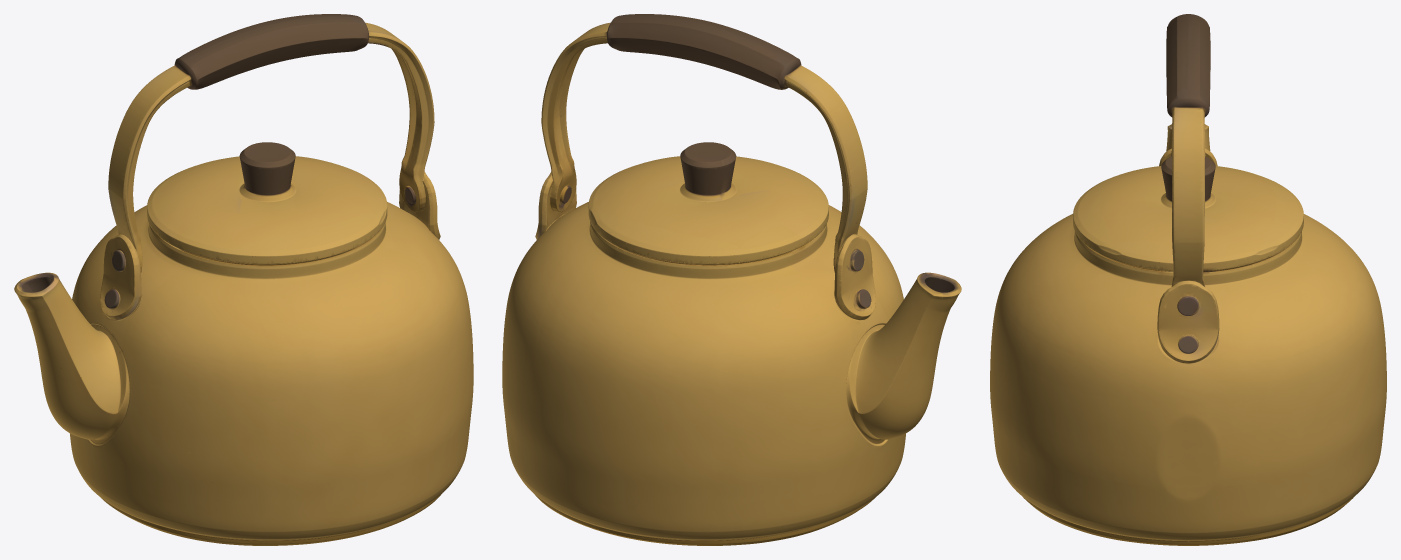
Rendered from yangeun_kettle__hunyuan.glb.
3 views of the same model, side by side, from view 1: azimuth 30°, elevation 25°; view 2: azimuth 150°, elevation 25°; view 3: azimuth 270°, elevation 25° (orthographic). The views are drawn at different scales.
Parts seen in each view (by area): view 1: material; view 2: material; view 3: material.
Part boxes in pixels (<box>): material: <box>14,14,473,545</box>; material: <box>502,14,961,545</box>; material: <box>990,14,1386,545</box>.
Size of the model in its own units: 0.8899 by 0.8832 by 0.736.
1 material, 1 textured.
